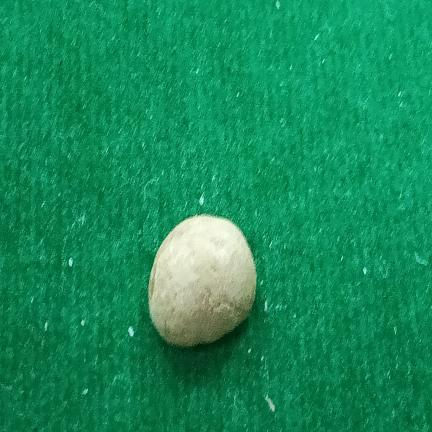good: (148, 215, 256, 347)
